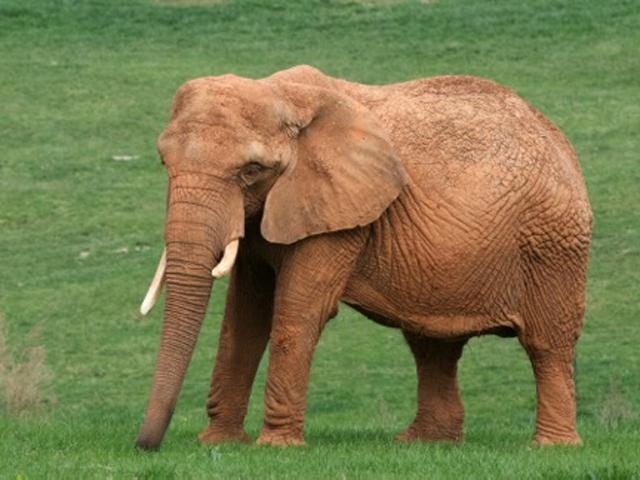elephant: (128, 61, 603, 463)
